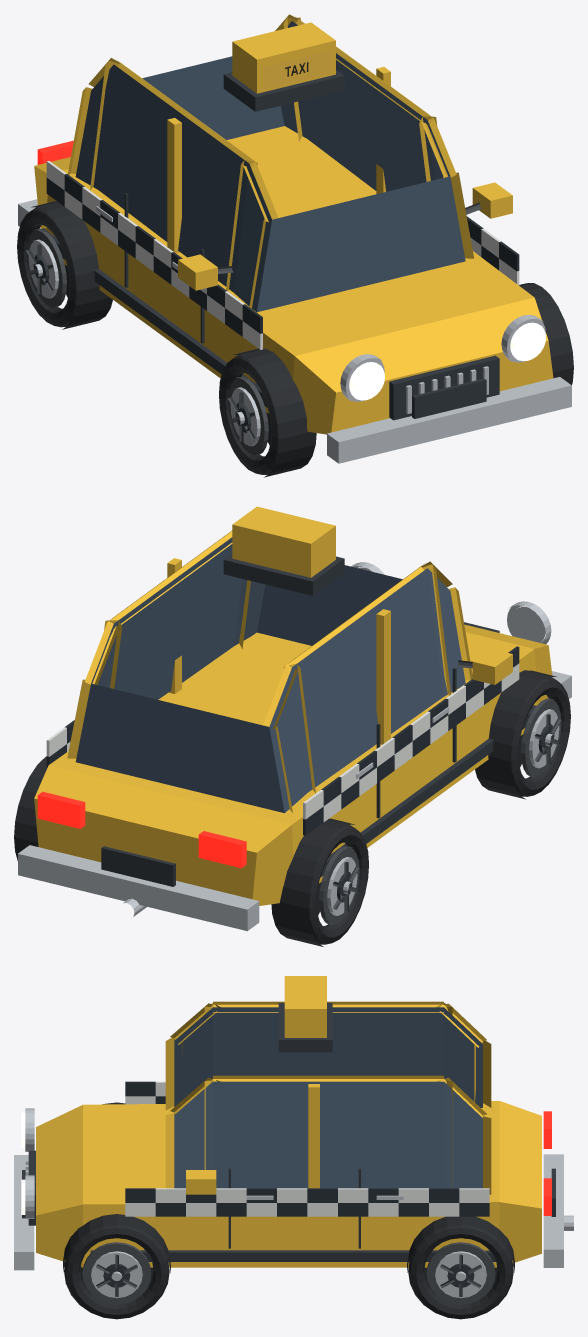
The model's file is car-taxi.glb.
3 views of the same model, one above another, from view 1: azimuth 30°, elevation 25°; view 2: azimuth 150°, elevation 25°; view 3: azimuth 270°, elevation 25° (orthographic). The views are drawn at different scales.
Visible parts, largest first — view 1: body-detail, wheel-front-left, wheel-back-left, wheel-front-right; view 2: body-detail, wheel-back-left, wheel-front-left, wheel-back-right; view 3: body-detail, wheel-front-right, wheel-back-right.
Part boxes in pixels (x1,y1,x2,y2): body-detail: (18, 14, 571, 463); wheel-front-left: (219, 348, 316, 477); wheel-back-left: (17, 201, 112, 329); wheel-front-right: (519, 283, 573, 385); body-detail: (18, 506, 571, 931); wheel-back-left: (271, 818, 368, 946); wheel-front-left: (475, 670, 570, 799); wheel-back-right: (14, 756, 46, 860); body-detail: (14, 976, 573, 1270); wheel-front-right: (63, 1214, 170, 1319); wheel-back-right: (407, 1216, 514, 1319).
Bounding box in the file's own units: 1.85 × 1.76 × 3.32.
Materials: 12 (1 with a texture image).
